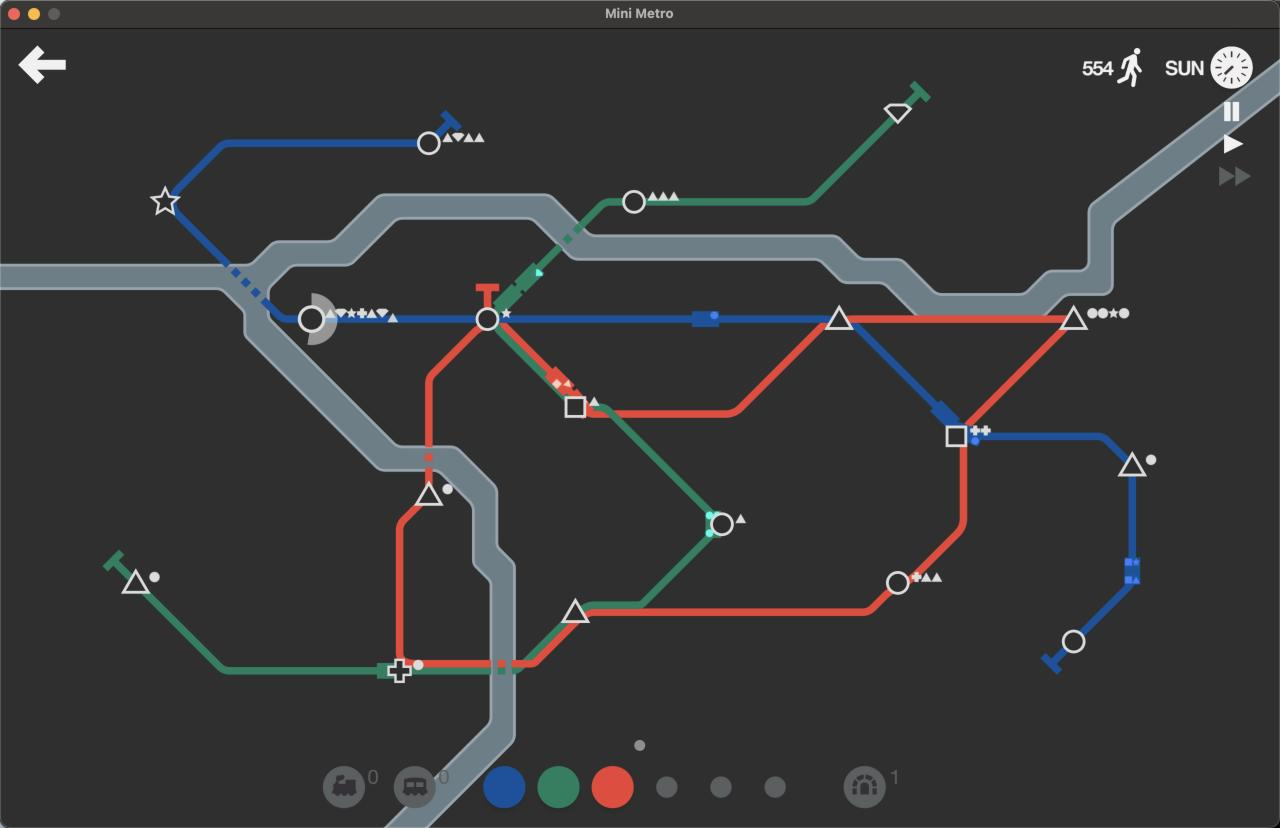CIRCLE: (297, 304, 326, 335), (707, 511, 735, 538), (416, 130, 442, 156), (474, 306, 500, 332), (885, 570, 910, 596), (1061, 628, 1086, 654), (622, 189, 646, 213)
CROSS: (387, 659, 412, 683)
DIAMOND: (883, 102, 912, 124)
SQUARE: (946, 424, 968, 448), (564, 395, 586, 419)
STAR: (149, 185, 180, 216), (501, 309, 511, 318)
TRIANGLE: (1117, 451, 1148, 478), (121, 568, 152, 595), (825, 304, 855, 331), (561, 598, 591, 625), (414, 481, 444, 508), (1059, 304, 1088, 331)
